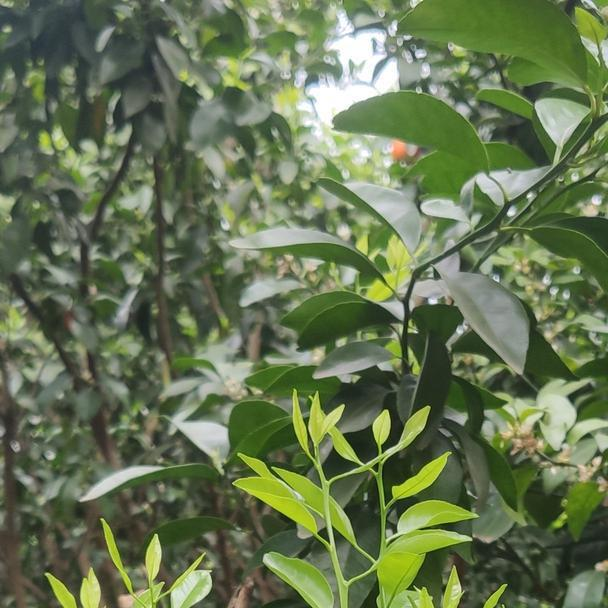shoot: (252, 392, 390, 599), (325, 411, 466, 586)
